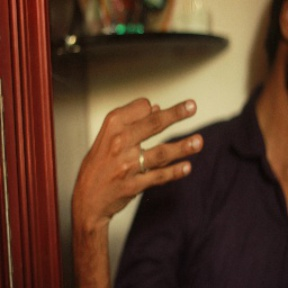K: (67, 94, 212, 211)
